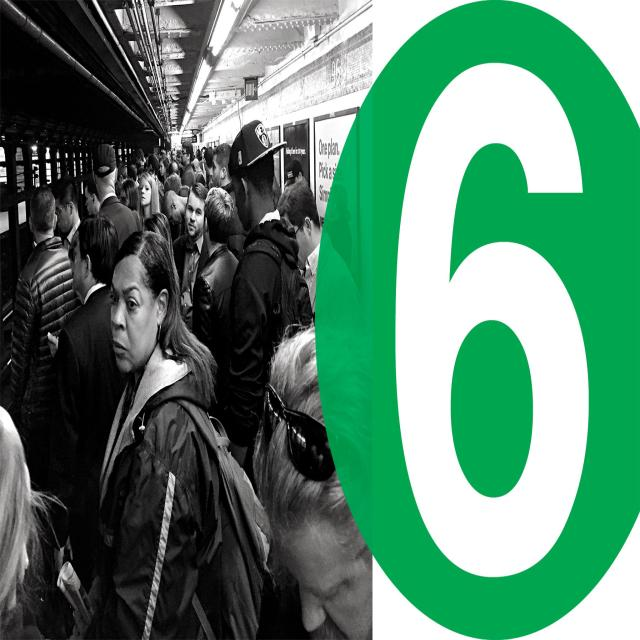body: (68, 227, 222, 640), (249, 318, 373, 640), (218, 116, 316, 490), (46, 210, 121, 535), (7, 184, 82, 483), (0, 401, 76, 639), (190, 183, 242, 424), (115, 132, 216, 209), (274, 176, 324, 327), (172, 180, 210, 335), (92, 142, 144, 252), (209, 140, 249, 262), (136, 207, 187, 293), (50, 172, 82, 249), (270, 157, 306, 213), (65, 223, 81, 309), (84, 175, 101, 218)
